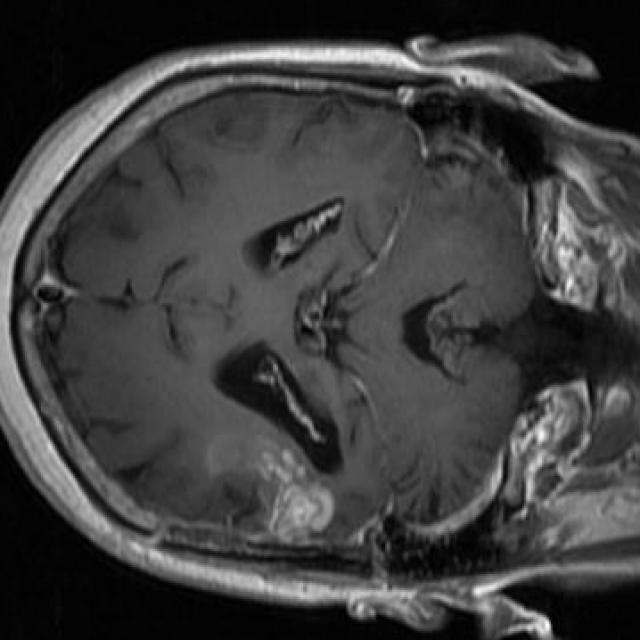glioma: (207, 433, 335, 538)
